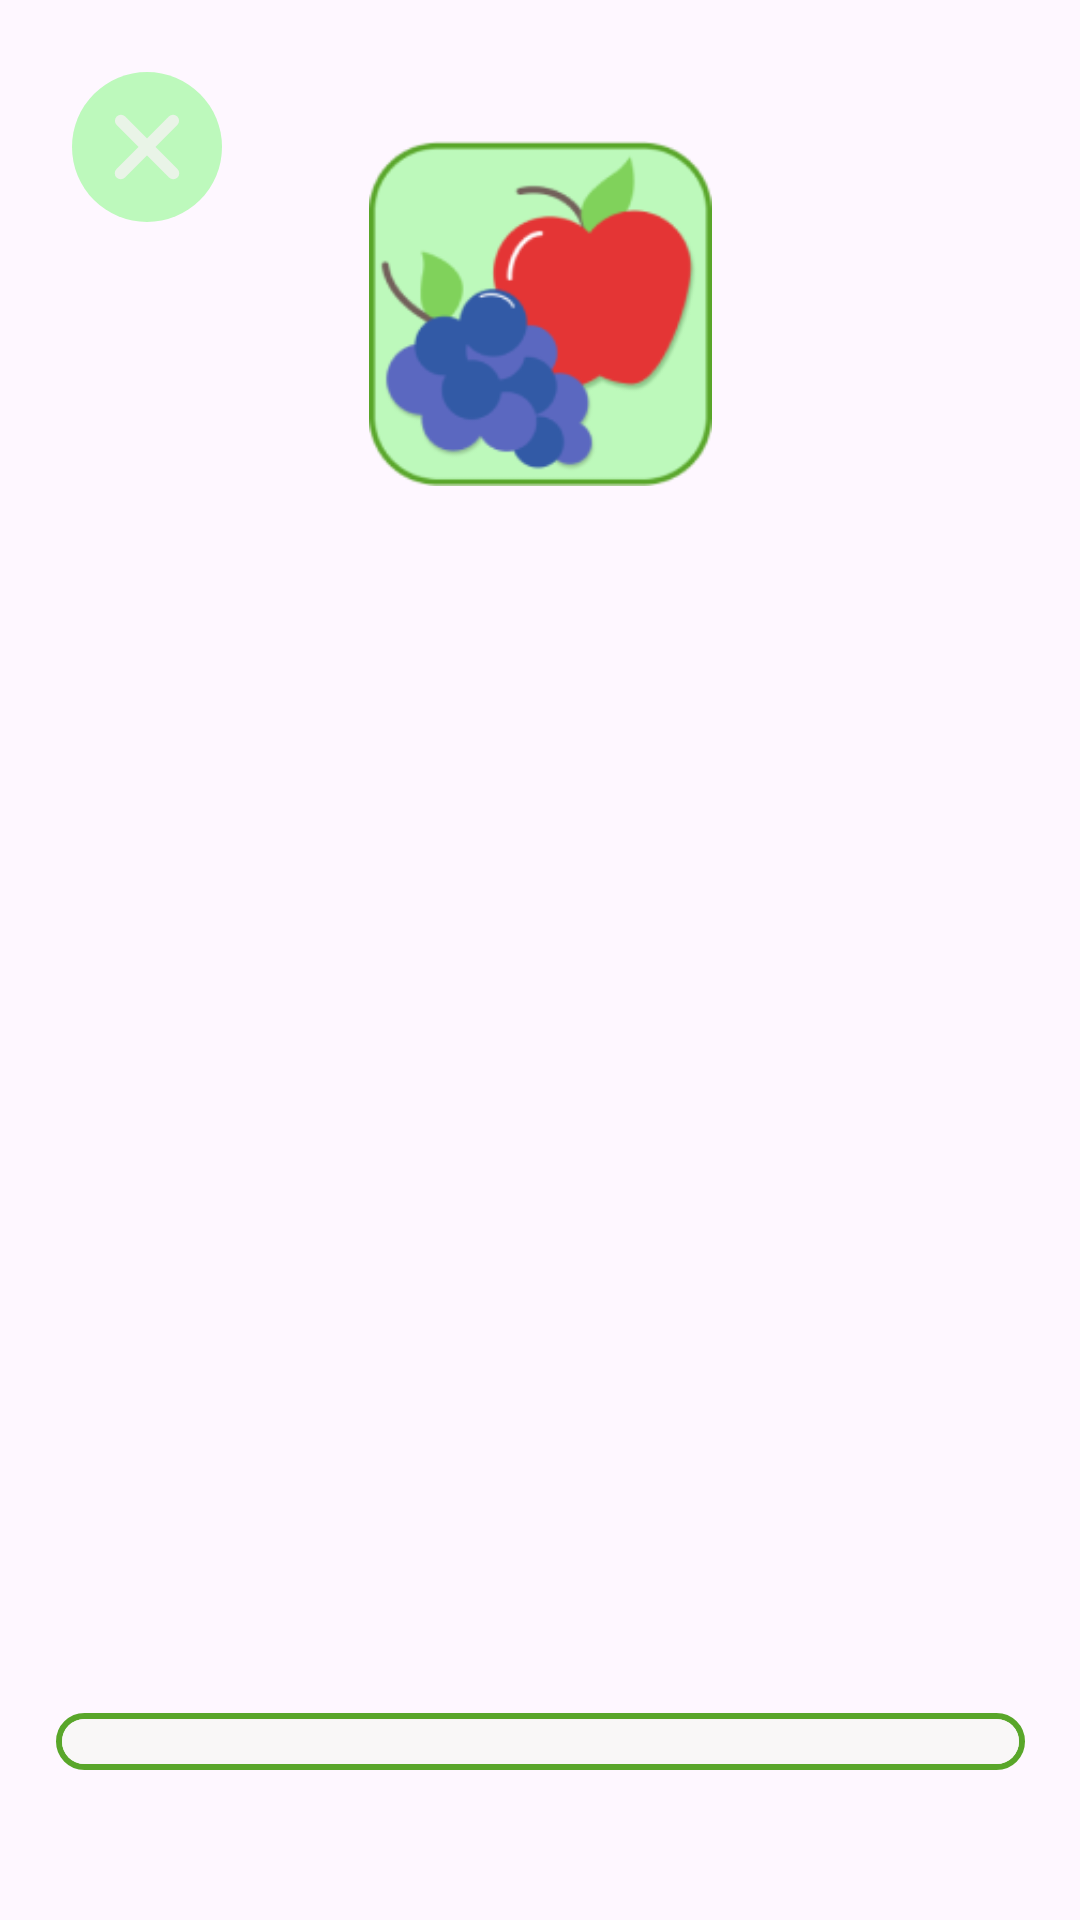

Icon bounding boxes for this 1080 × 1920 phone screenshot, format (left=x1, top=y1, right=x2, bottom=y2):
foodgameexit: (left=72, top=72, right=222, bottom=222)
foodgameicon: (left=369, top=141, right=712, bottom=486)
